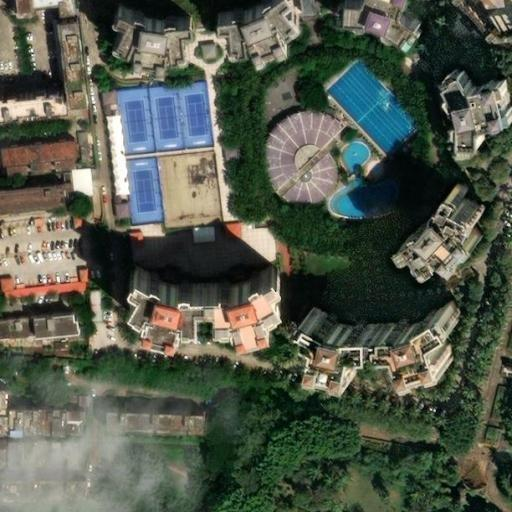building: (135, 267, 291, 342), (325, 306, 481, 381), (261, 111, 341, 201), (398, 187, 474, 264), (442, 96, 512, 177), (132, 6, 221, 66), (440, 0, 512, 50), (348, 0, 428, 43), (6, 141, 82, 178), (56, 19, 84, 107), (0, 187, 71, 217), (111, 120, 135, 202), (0, 483, 84, 506), (112, 407, 210, 426), (1, 282, 83, 301), (35, 312, 82, 335), (54, 412, 90, 440), (26, 412, 54, 440), (20, 451, 47, 478), (10, 412, 27, 439), (192, 230, 215, 246), (17, 1, 34, 21), (225, 224, 244, 241), (74, 462, 89, 482), (9, 451, 20, 478), (61, 462, 75, 481), (121, 207, 133, 226), (131, 237, 144, 253), (75, 453, 89, 463), (62, 453, 75, 463), (79, 401, 90, 412), (76, 223, 86, 233), (81, 271, 88, 284), (12, 284, 22, 291), (67, 278, 74, 284), (34, 224, 43, 228)
